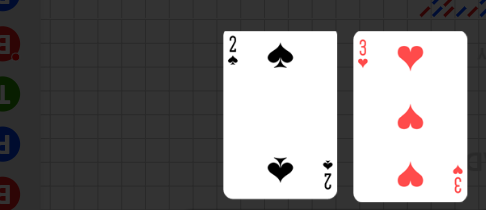2S: (226, 35, 240, 68)
3H: (451, 162, 464, 194)
